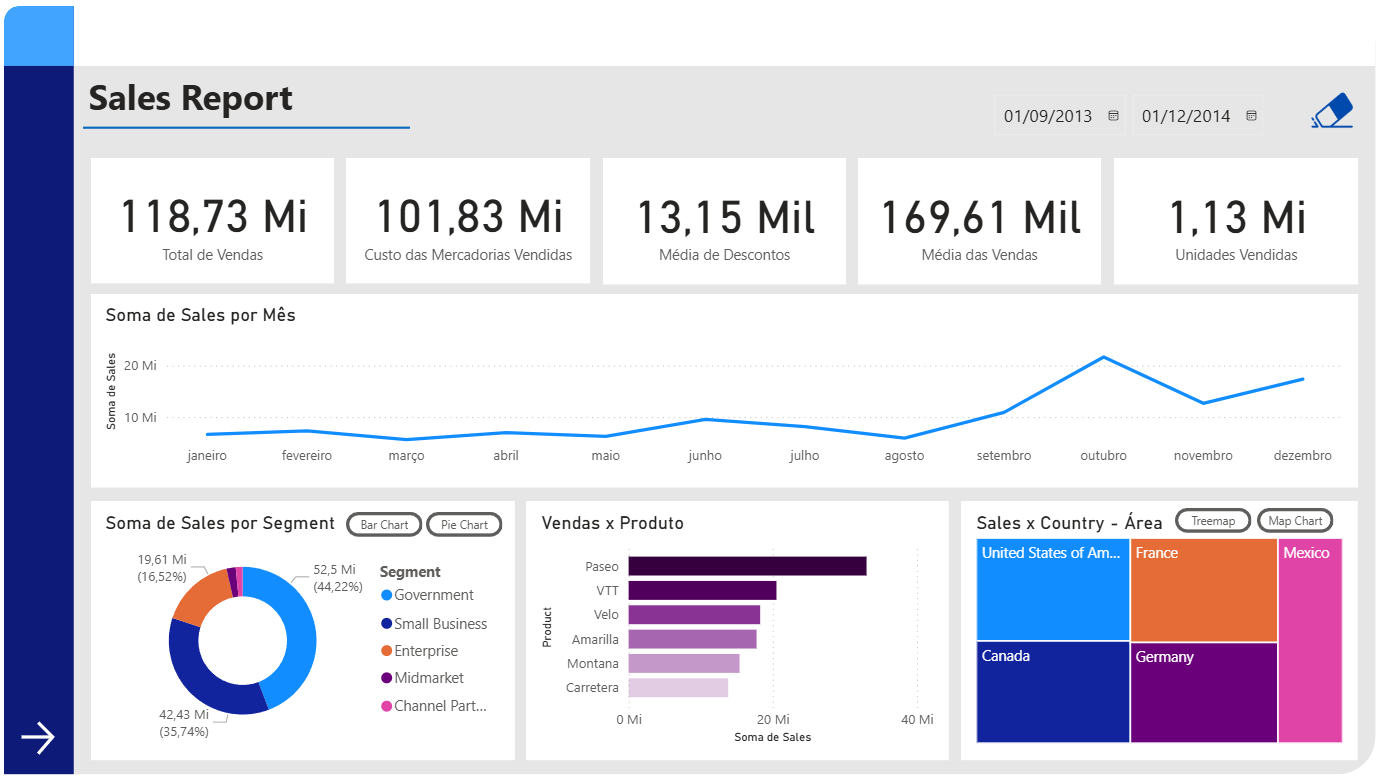

Layout of this report page (visuals, bound fields, positions):
{"tool":"powerbi","page":{"name":"Página 1","canvas":[1280,720],"ordinal":0},"visuals":[{"type":"shape","box":[10.2,7.2,1258.6,705.3],"z":0},{"type":"slicer","title":"Date","fields":{"Values":["financials.Date"]},"box":[905.4,78.6,281.7,55.1],"z":0,"group":"g1"},{"type":"donutChart","fields":{"Y":["Sum(financials.Sales)"],"Category":["financials.Segment"]},"box":[97.8,471.2,369.8,217.1],"z":0,"group":"g2"},{"type":"map","title":"Sales x Country - Map","fields":{"Category":["financials.Country"],"Size":["Sum(financials.Sales)"]},"box":[897.2,471.6,346,217.4],"z":0,"group":"g3"},{"type":"actionButton","box":[1204.5,82.7,50,43.9],"z":1000,"group":"g1"},{"type":"card","fields":{"Values":["Sum(financials.Sales)"]},"box":[90,146.7,223.2,114.7],"z":1000},{"type":"treemap","title":"Sales x Country - Área","fields":{"Group":["financials.Country"],"Values":["Sum(financials.Sales)"]},"box":[897.1,471.2,345.9,217.1],"z":1000,"group":"g3"},{"type":"actionButton","title":"Pie Chart","box":[397.2,471.2,70.4,22.7],"z":1500,"group":"g2"},{"type":"shape","box":[10.2,7.2,64.3,705.3],"z":2000},{"type":"actionButton","title":"Botão MapChart","box":[1159.5,467.6,70.4,22.7],"z":2000,"group":"g3"},{"type":"actionButton","title":"Bar Chart","box":[323.3,471.2,70.4,22.7],"z":2000,"group":"g2"},{"type":"shape","box":[10.2,7.2,64.3,55.1],"z":3000},{"type":"actionButton","title":"Botão Treemap","box":[1084.4,467.6,70.4,22.7],"z":3000,"group":"g3"},{"type":"shape","box":[74.5,7.2,1194.3,55.1],"z":4000},{"type":"shape","box":[82.7,89.8,300.1,58.2],"z":5000},{"type":"card","fields":{"Values":["Sum(financials.Units Sold)"]},"box":[1028.4,146.7,224.4,115.9],"z":6000},{"type":"card","fields":{"Values":["Avg(financials.Discounts)"]},"box":[559.9,146.7,223.2,115.9],"z":7000},{"type":"card","fields":{"Values":["Avg(financials.Sales)"]},"box":[794.1,146.7,223.2,115.9],"z":8000},{"type":"card","fields":{"Values":["Sum(financials.COGS)"]},"box":[324.3,146.7,224.4,114.7],"z":9000},{"type":"shape","box":[89.8,271.5,1162.6,177.6],"z":10000},{"type":"shape","box":[888,461.4,364.4,237.8],"z":11000},{"type":"shape","box":[488.9,461.4,387.9,237.8],"z":12000},{"type":"shape","box":[89.8,461.4,388.9,237.8],"z":13000},{"type":"lineChart","fields":{"Y":["Sum(financials.Sales)"],"Category":["financials.Date.Variation.Hierarquia de datas.Mês"]},"box":[98,280.7,1145.3,157.2],"z":14000},{"type":"clusteredBarChart","title":"Vendas x Produto","fields":{"Y":["Sum(financials.Sales)"],"Category":["financials.Product"]},"box":[498.1,471.6,369.5,217.4],"z":15000},{"type":"image","box":[1204.5,78.6,48,48],"z":16000},{"type":"group","id":"g1","title":"Filtrar por Data","box":[905.4,78.6,349.1,55.1],"z":17000},{"type":"group","id":"g2","title":"Vendas por Segmento","box":[97.8,471.2,369.8,217.8],"z":18000},{"type":"group","id":"g3","title":"Sales x Country","box":[897.1,467.6,346.2,221.4],"z":19000},{"type":"actionButton","title":"Botão Prox Pag","box":[20.3,658.5,40.6,40.6],"z":20000},{"type":"textbox","box":[82.3,62,201.6,60.8],"z":21000}]}

Visuals, with their boxes in screenshot pixels (x1, y1, x2, y2), scaled from the page's 1280x720 canvas onto the 1384x783 screenshot:
shape: 11:8:1372:775
"Date" slicer: 979:85:1284:145
donutChart - Sum(financials.Sales) x financials.Segment: 106:512:506:749
"Sales x Country - Map" map: 970:513:1344:749
actionButton: 1302:90:1356:138
card - Sum(financials.Sales): 97:160:339:284
"Sales x Country - Área" treemap: 970:512:1344:749
"Pie Chart" actionButton: 429:512:506:537
shape: 11:8:81:775
"Botão MapChart" actionButton: 1254:509:1330:533
"Bar Chart" actionButton: 350:512:426:537
shape: 11:8:81:68
"Botão Treemap" actionButton: 1173:509:1249:533
shape: 81:8:1372:68
shape: 89:98:414:161
card - Sum(financials.Units Sold): 1112:160:1355:286
card - Avg(financials.Discounts): 605:160:847:286
card - Avg(financials.Sales): 859:160:1100:286
card - Sum(financials.COGS): 351:160:593:284
shape: 97:295:1354:488
shape: 960:502:1354:760
shape: 529:502:948:760
shape: 97:502:518:760
lineChart - Sum(financials.Sales) x financials.Date.Variation.Hierarquia de datas.Mês: 106:305:1344:476
"Vendas x Produto" clusteredBarChart: 539:513:938:749
image: 1302:85:1354:138
"Filtrar por Data" group: 979:85:1356:145
"Vendas por Segmento" group: 106:512:506:749
"Sales x Country" group: 970:509:1344:749
"Botão Prox Pag" actionButton: 22:716:66:760
textbox: 89:67:307:134
